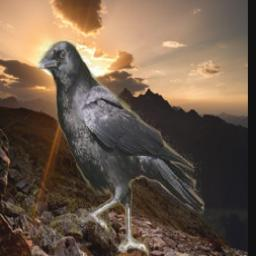Crow: (32, 39, 203, 256)
